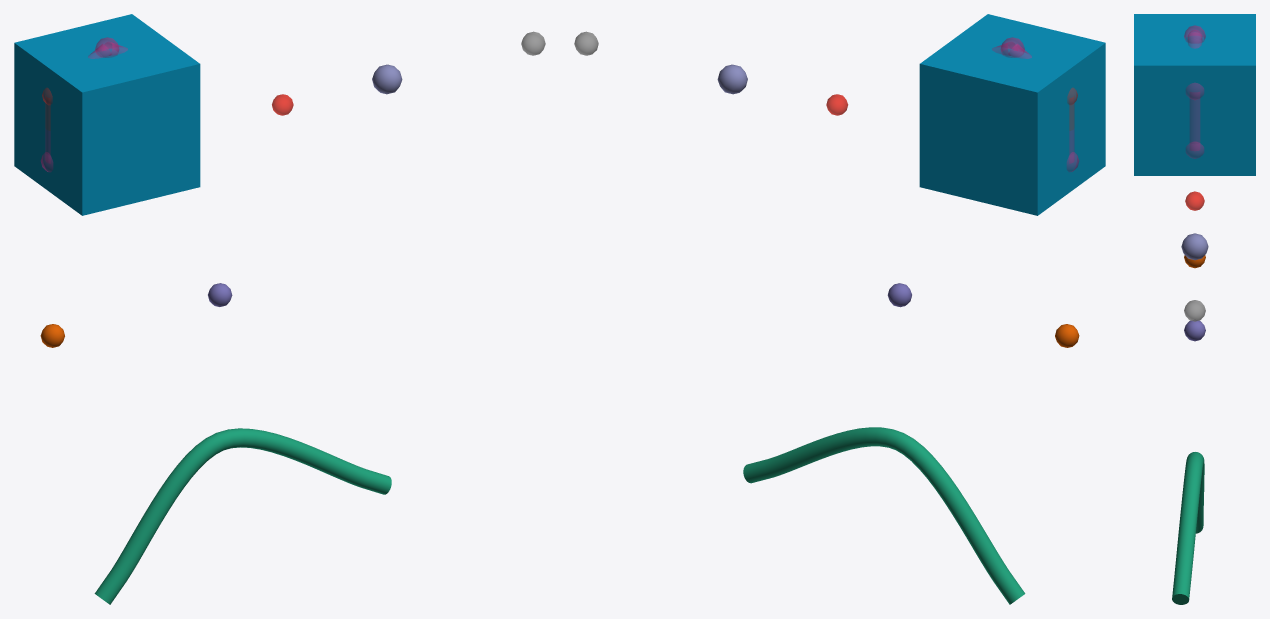
The model's file is mixed-viewer-cartoon-components.obj.
3 renders of one model, left to right at view 1: azimuth 30°, elevation 25°; view 2: azimuth 150°, elevation 25°; view 3: azimuth 270°, elevation 25°, orthographic. The views are drawn at different scales.
Bounding box in the file's own units: 12.01 × 12.94 × 2.82.
